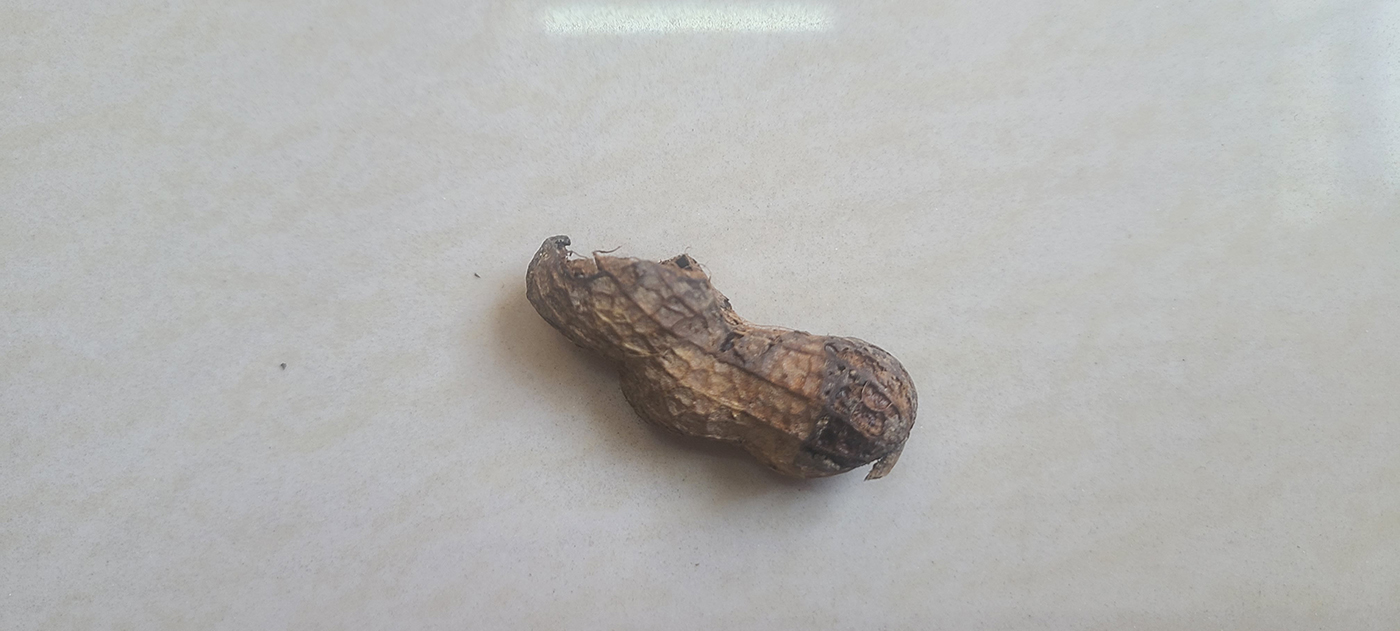l: (525, 229, 921, 483)
